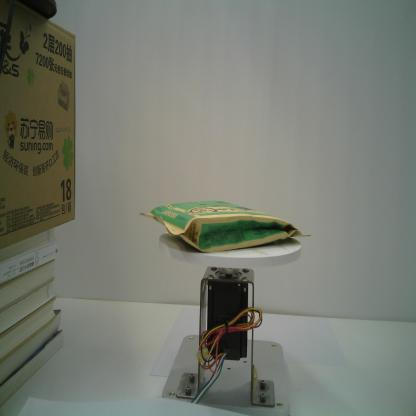Dried Food: (139, 199, 311, 253)
